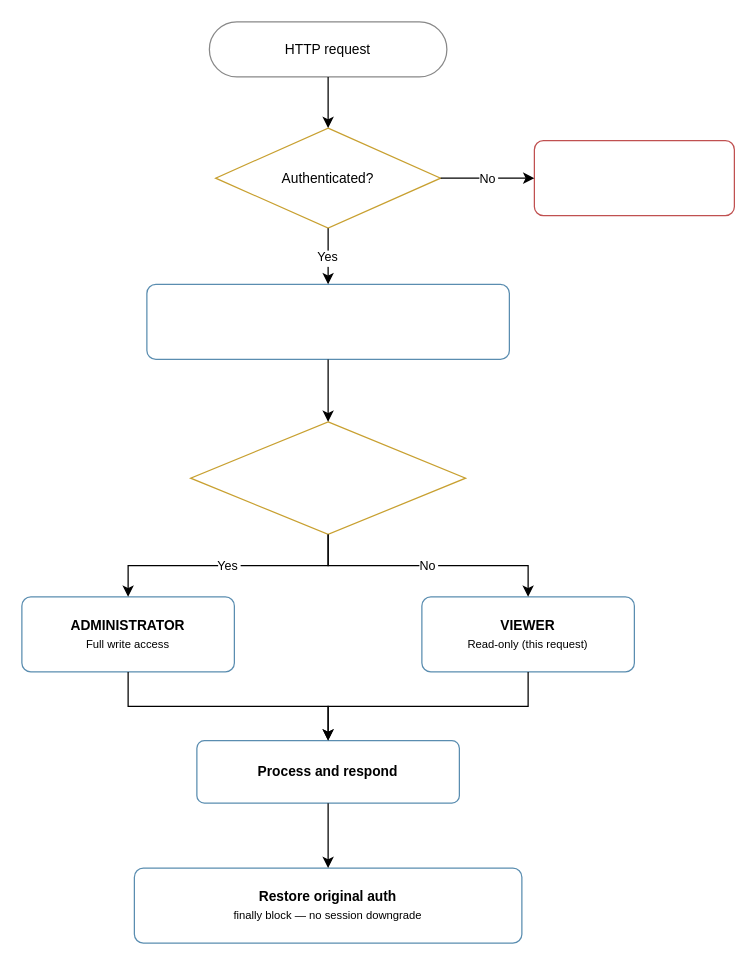
Some shapes in this 756 by 965 pixel diagram are drawn without their labels. The centre of each missing label's shape, as x and y in pixels:
"Access denied 401 unauthorized" goes at point 633,177.
"Per-request temporal filter TrbacPerRequestFilter — every request" goes at point 327,321.
"Working hours? 09:00 – 18:00" goes at point 327,477.
